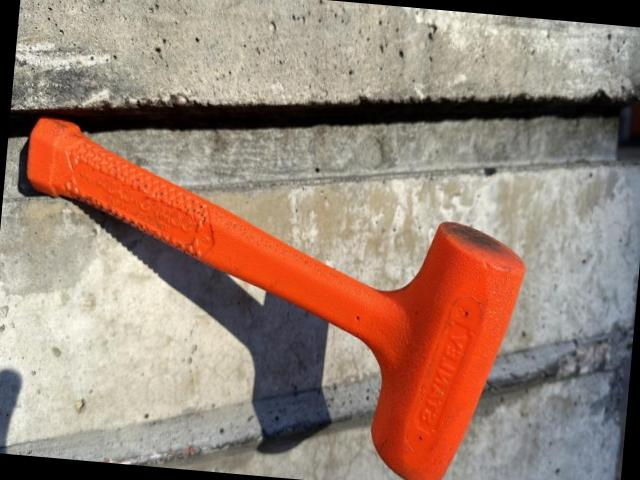hammer: (0, 110, 536, 480)
